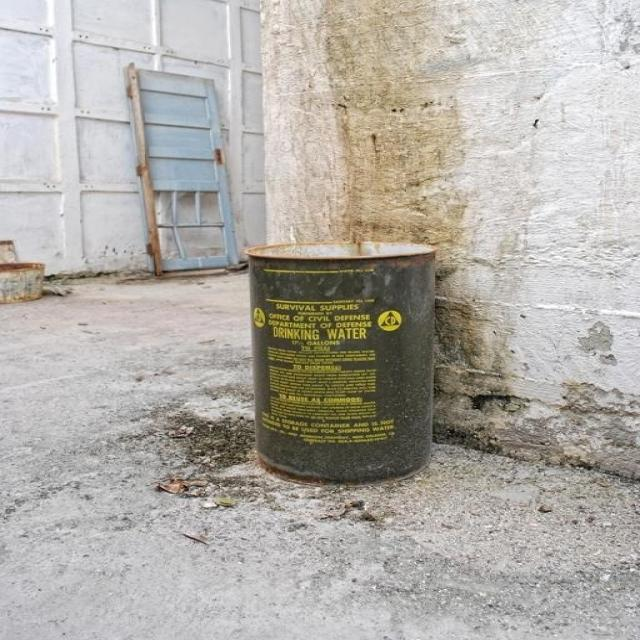can: (235, 214, 468, 519), (123, 52, 254, 287)
